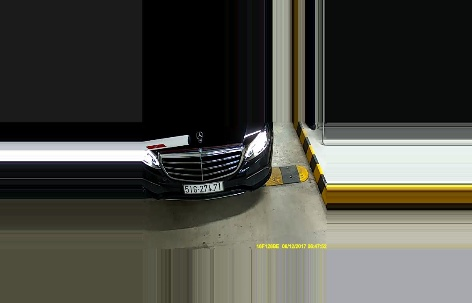plate: (181, 180, 225, 195)
